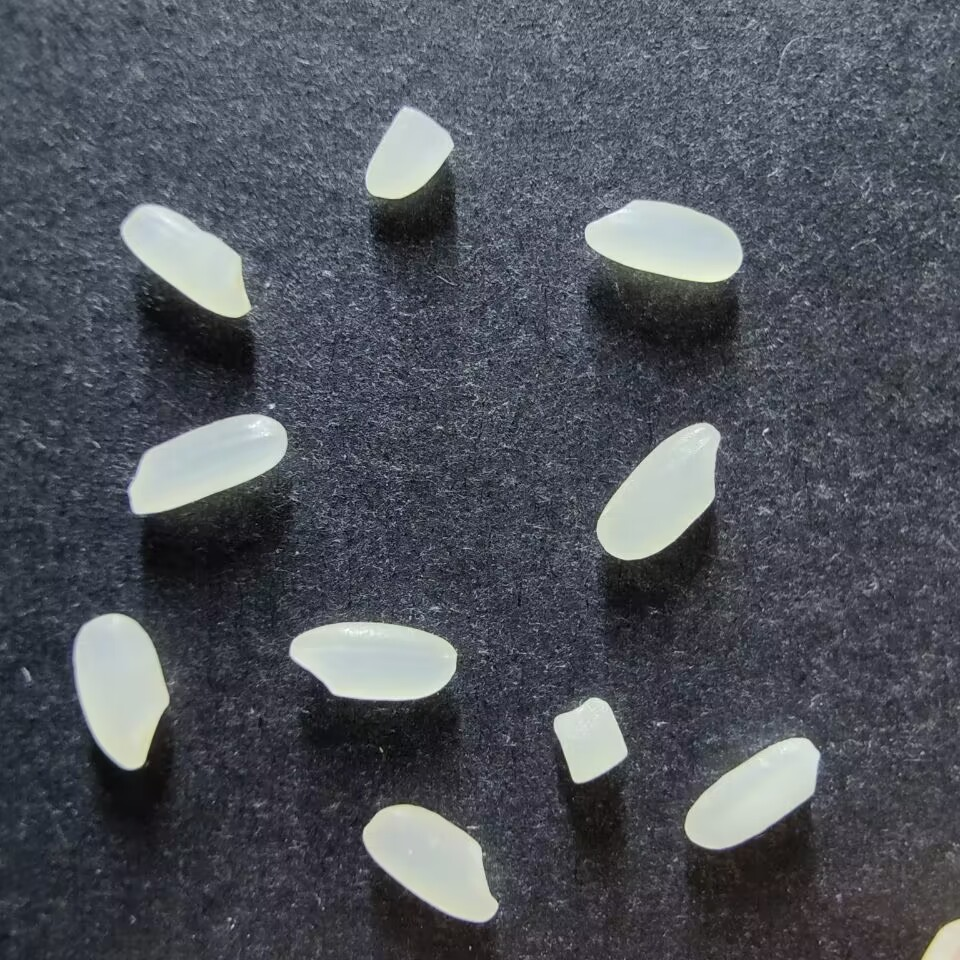broken: (363, 106, 454, 199), (552, 696, 628, 785)
rice: (594, 422, 721, 561), (361, 803, 499, 924), (127, 413, 288, 516), (683, 736, 820, 850), (72, 613, 169, 772), (119, 203, 251, 318), (287, 620, 457, 702), (583, 199, 742, 283)
